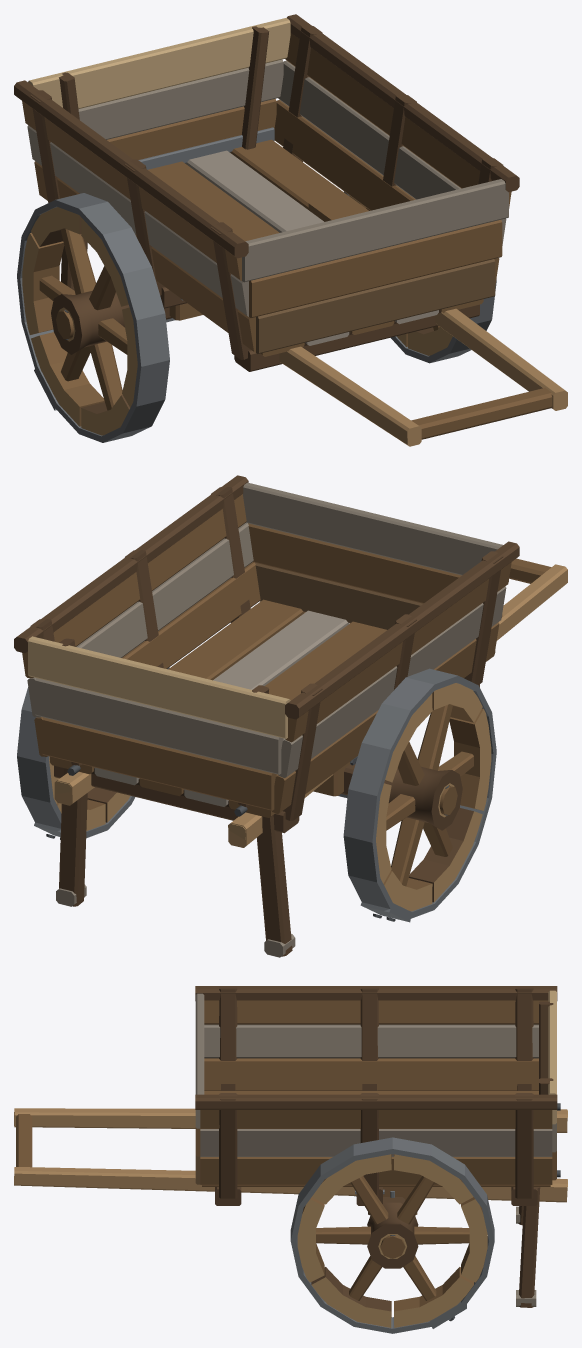
File: SM_LPD_Crate_HandcartEmpty_01.fbx
3 views of the same model, one above another, from view 1: azimuth 30°, elevation 25°; view 2: azimuth 150°, elevation 25°; view 3: azimuth 270°, elevation 25° (orthographic). The views are drawn at different scales.
Visible parts, largest first — view 1: SM_LPD_Crate_HandcartEmpty_01; view 2: SM_LPD_Crate_HandcartEmpty_01; view 3: SM_LPD_Crate_HandcartEmpty_01.
Boxes of the visible parts, box(x1,y1,x2,y2) form: SM_LPD_Crate_HandcartEmpty_01: box(14, 14, 567, 446); SM_LPD_Crate_HandcartEmpty_01: box(14, 475, 567, 957); SM_LPD_Crate_HandcartEmpty_01: box(14, 986, 567, 1333).
Size of the model in its own units: 1.11 by 0.7455 by 1.68.
